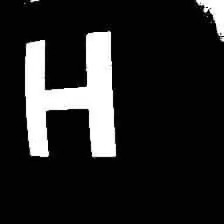LTR_H: (13, 22, 118, 161)
